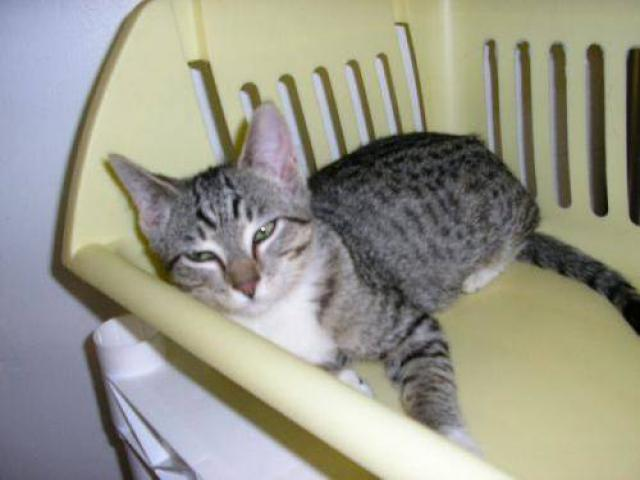cat: (96, 102, 563, 440)
